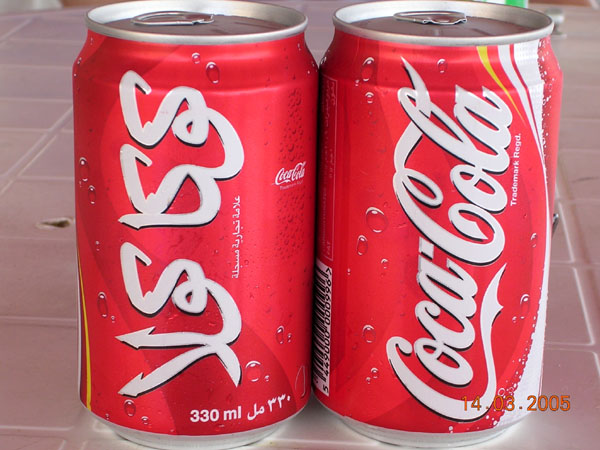can: (314, 1, 569, 450), (69, 1, 321, 450)
